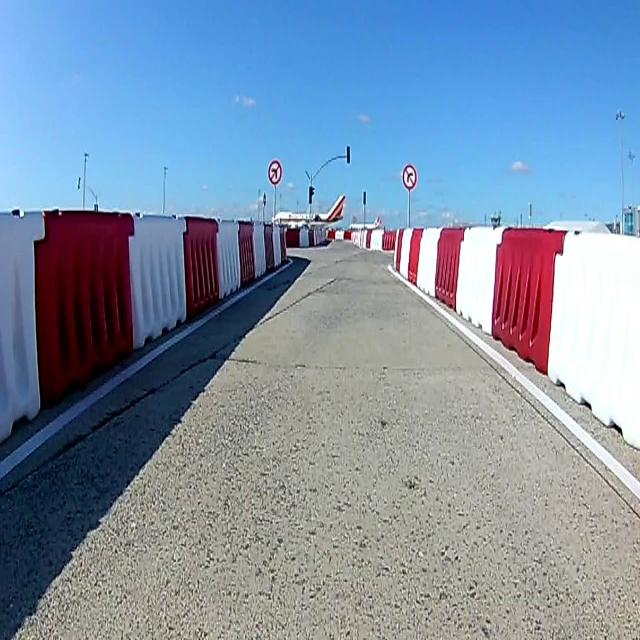sagadonulmez: (401, 162, 418, 192)
soladonulmez: (267, 160, 283, 184)
